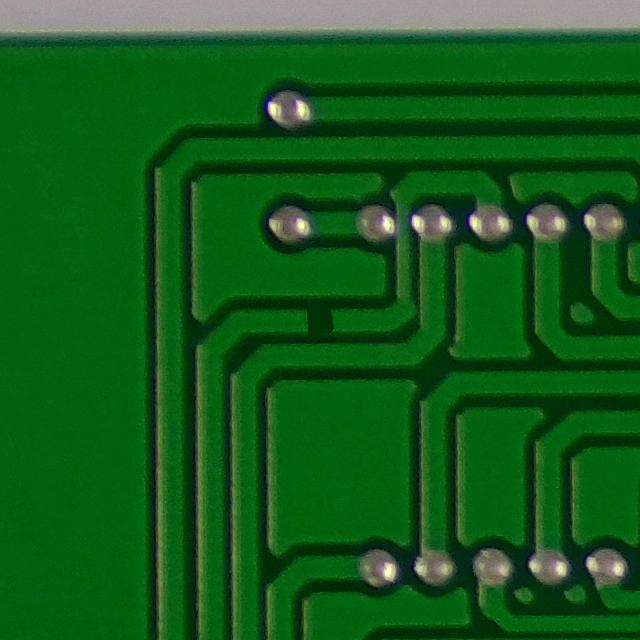open_circuit: (295, 301, 346, 340)
